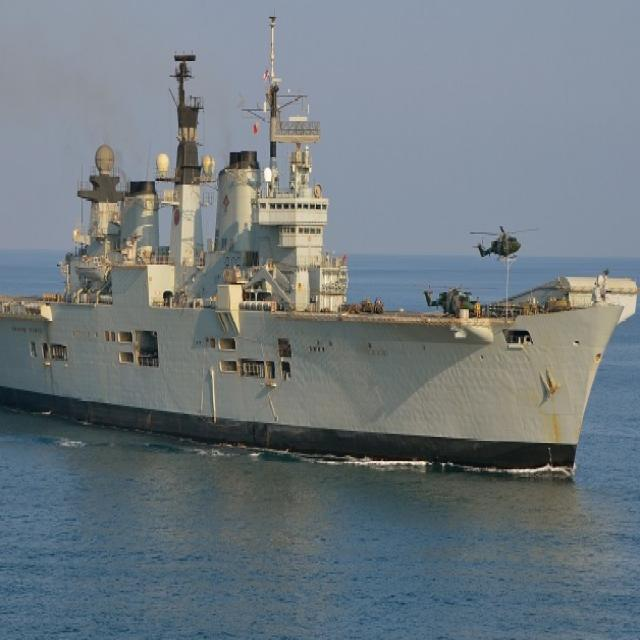Portanaves: (1, 3, 640, 490)
